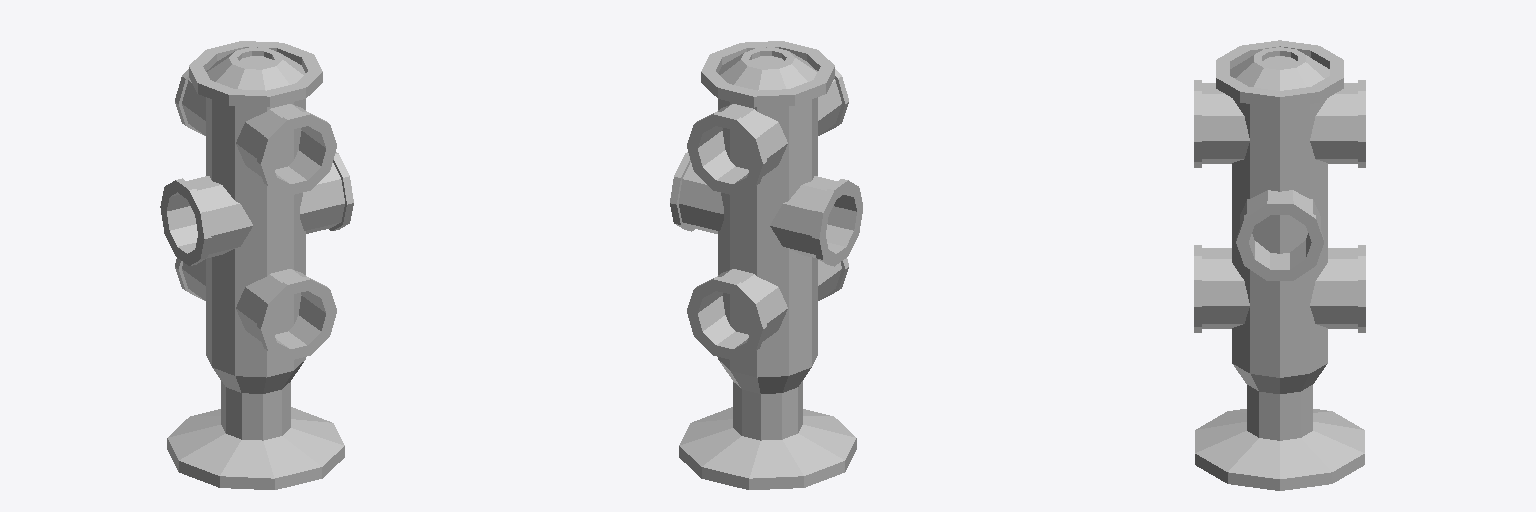
The model's file is DroneSpawn.obj.
3 views of the same model, side by side, from view 1: azimuth 30°, elevation 25°; view 2: azimuth 150°, elevation 25°; view 3: azimuth 270°, elevation 25° (orthographic).
Visible parts, largest first — view 1: DroneSpawn; view 2: DroneSpawn; view 3: DroneSpawn.
Part boxes in pixels (bbox=[...]): DroneSpawn: bbox=[160, 41, 353, 489]; DroneSpawn: bbox=[670, 41, 862, 489]; DroneSpawn: bbox=[1194, 40, 1365, 490].
Bounding box in the file's own units: 353 × 862 × 342.